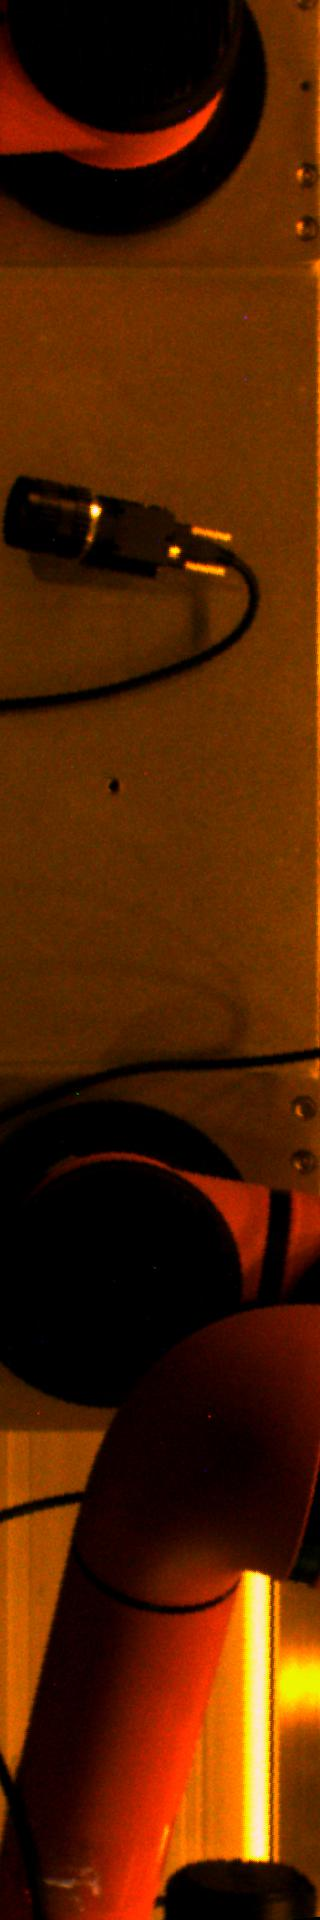keyPoint_2: (98, 771, 128, 802)
